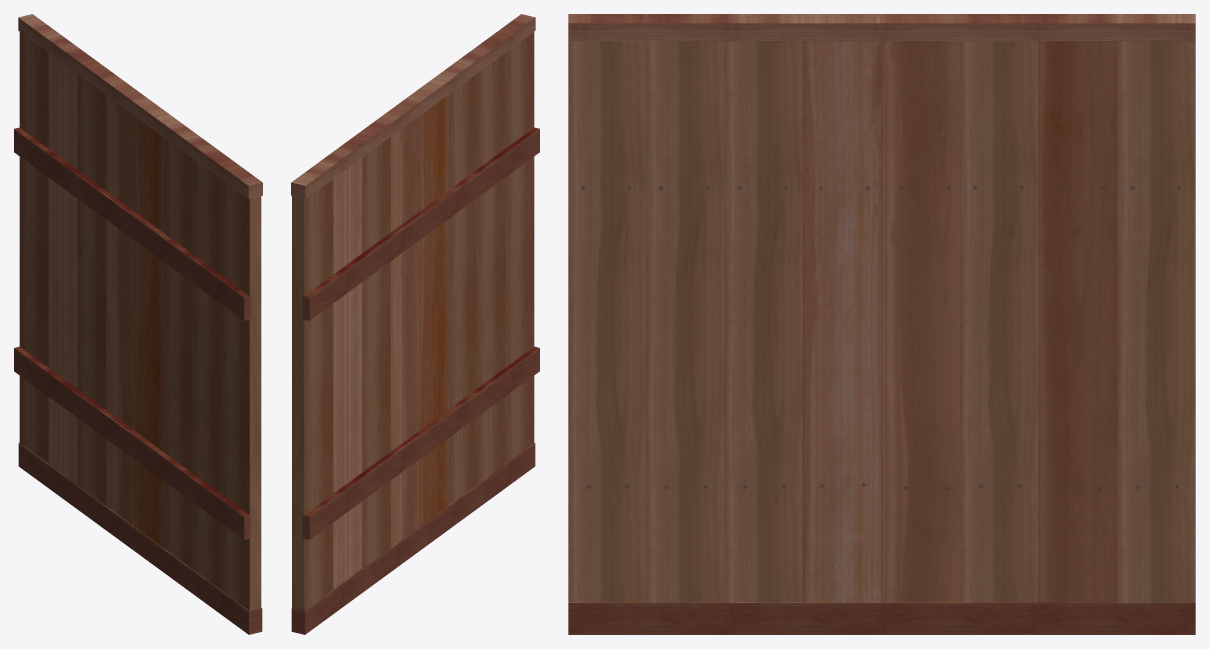
File: Palings.fbx
The picture shows the model from 3 angles, left to right: view 1: azimuth 30°, elevation 25°; view 2: azimuth 150°, elevation 25°; view 3: azimuth 270°, elevation 25°; orthographic projection. The views are drawn at different scales.
Parts seen in each view (by area): view 1: polySurface2; view 2: polySurface2; view 3: polySurface2.
Boxes of the visible parts, x1,y1,x2,y2 form: polySurface2: (14,14,262,634); polySurface2: (291,14,539,634); polySurface2: (568,14,1195,634).
Bounding box in the file's own units: 4.22 × 98.08 × 91.16.
